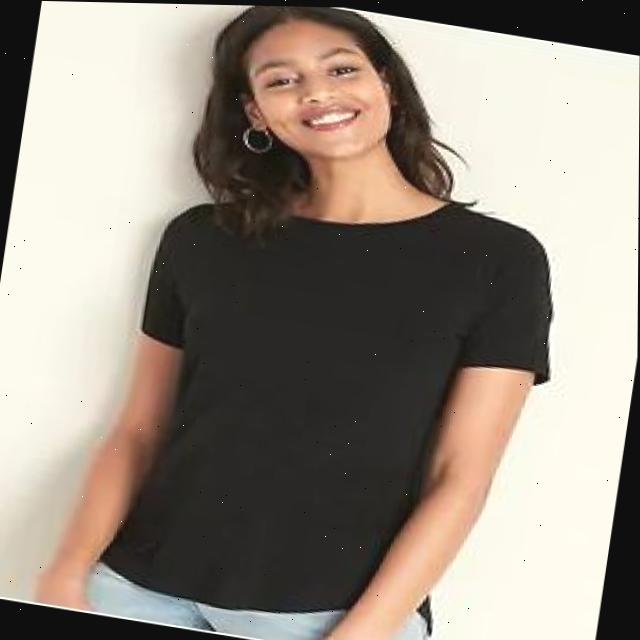Upper-Body: (94, 198, 553, 612)
